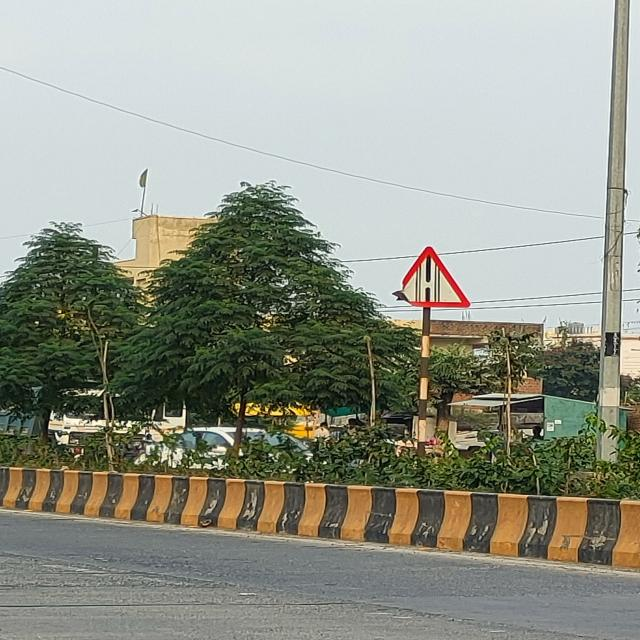GAP_IN_MEDIAN: (392, 243, 472, 306)
